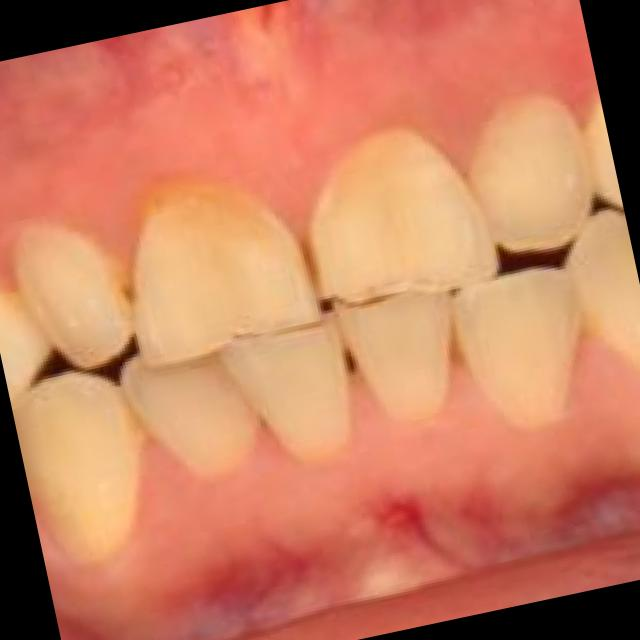karies: (155, 172, 259, 244), (101, 260, 150, 326), (430, 308, 480, 368), (291, 234, 330, 302)
